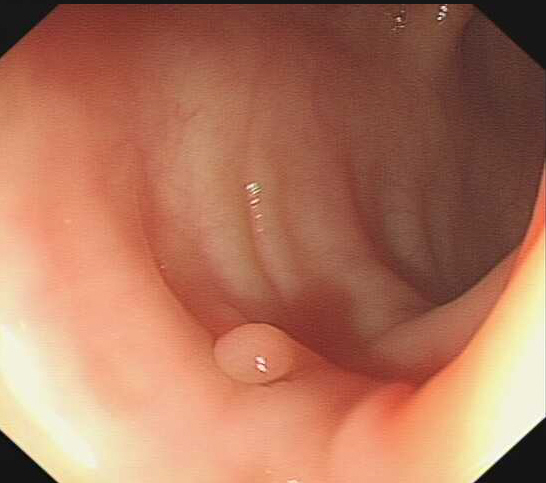others: (206, 320, 309, 385)
